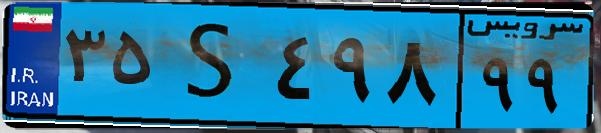3: (57, 26, 110, 100)
4: (270, 28, 330, 110)
5: (110, 28, 158, 98)
8: (385, 28, 445, 110)
9: (330, 28, 385, 110), (475, 38, 525, 113), (525, 38, 570, 115)
S: (158, 12, 270, 120)
